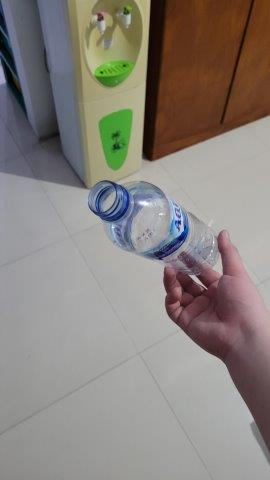botolplastik: (84, 180, 224, 275)
